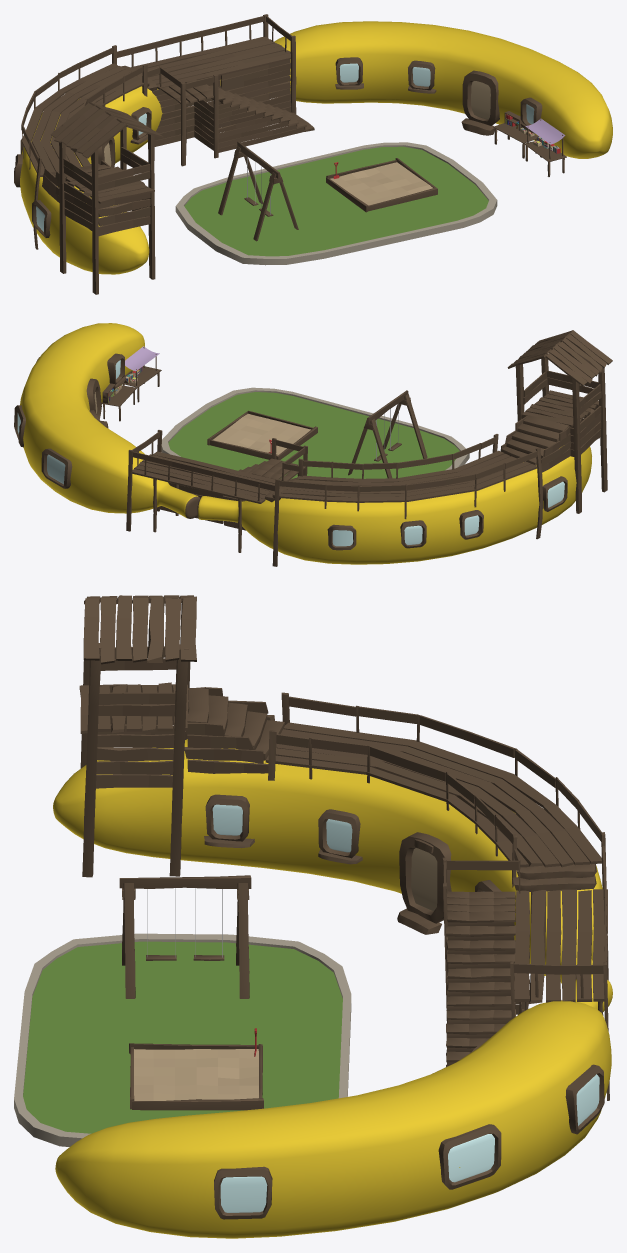
Rendered from Banana_School (1).fbx.
3 views of the same model, one above another, from view 1: azimuth 30°, elevation 25°; view 2: azimuth 150°, elevation 25°; view 3: azimuth 270°, elevation 25° (orthographic). The views are drawn at different scales.
Parts seen in each view (by area): view 1: polySurface418.006, Banana_low, Banana_low.001, apple_house_ground.016, apple_house_ground.002, apple_house_ground.001, polySurface418.025, apple_house_ground.018, apple_house_ground.013, apple_house_ground.004, polySurface418.027, polySurface418.024 (+21 smaller); view 2: Banana_low.001, Banana_low, polySurface418.006, apple_house_ground.016, apple_house_ground.002, polySurface418.025, apple_house_ground.001, apple_house_ground.004, polySurface418.024, apple_house_ground.003, apple_house_ground.012, polySurface418.023 (+23 smaller); view 3: Banana_low, polySurface418.006, Banana_low.001, apple_house_ground.002, apple_house_ground.016, polySurface418.027, polySurface418.025, apple_house_ground.001, apple_house_ground.005, polySurface418.024, apple_house_ground.009, apple_house_ground.012 (+12 smaller).
Boxes of the visible parts, <box> form: polySurface418.006: <box>175,142,497,265</box>; Banana_low: <box>220,21,612,158</box>; Banana_low.001: <box>20,86,162,274</box>; apple_house_ground.016: <box>21,14,296,249</box>; apple_house_ground.002: <box>22,63,144,176</box>; apple_house_ground.001: <box>130,36,290,89</box>; polySurface418.025: <box>326,158,437,212</box>; apple_house_ground.018: <box>218,102,304,152</box>; apple_house_ground.013: <box>220,59,291,118</box>; apple_house_ground.004: <box>50,103,126,158</box>; polySurface418.027: <box>160,80,314,131</box>; polySurface418.024: <box>218,141,298,241</box>; Banana_low.001: <box>197,446,591,564</box>; Banana_low: <box>20,323,200,518</box>; polySurface418.006: <box>161,387,469,479</box>; apple_house_ground.016: <box>126,430,542,566</box>; apple_house_ground.002: <box>279,450,537,502</box>; polySurface418.025: <box>207,410,317,459</box>; apple_house_ground.001: <box>132,451,275,503</box>; apple_house_ground.004: <box>545,330,612,386</box>; polySurface418.024: <box>348,390,427,478</box>; apple_house_ground.003: <box>521,390,599,426</box>; apple_house_ground.012: <box>500,415,574,472</box>; polySurface418.023: <box>572,376,581,513</box>; Banana_low: <box>55,974,612,1238</box>; polySurface418.006: <box>14,933,351,1146</box>; Banana_low.001: <box>53,739,602,983</box>; apple_house_ground.002: <box>265,722,601,867</box>; apple_house_ground.016: <box>268,692,609,1100</box>; polySurface418.027: <box>445,891,515,1066</box>; polySurface418.025: <box>129,1043,263,1110</box>; apple_house_ground.001: <box>514,889,607,1003</box>; apple_house_ground.005: <box>83,595,196,664</box>; polySurface418.024: <box>119,875,251,998</box>; apple_house_ground.009: <box>96,734,174,788</box>; apple_house_ground.012: <box>184,687,274,773</box>.
Bounding box in the file's own units: 383 × 109 × 224.
